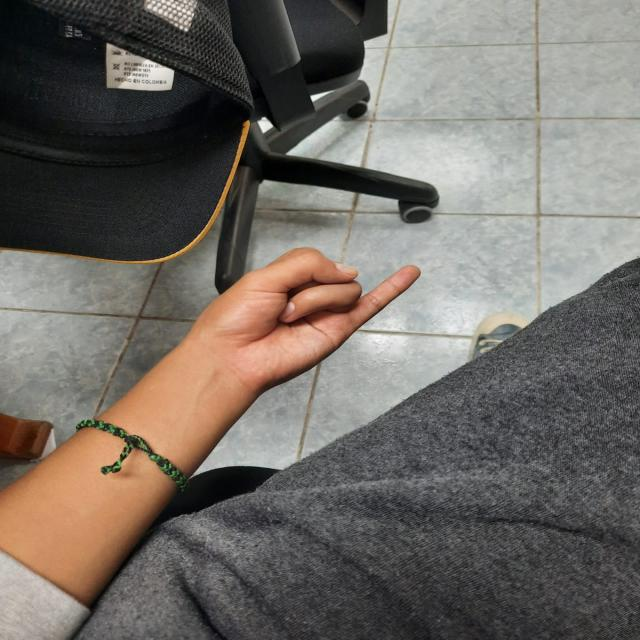Z: (170, 234, 452, 422)
